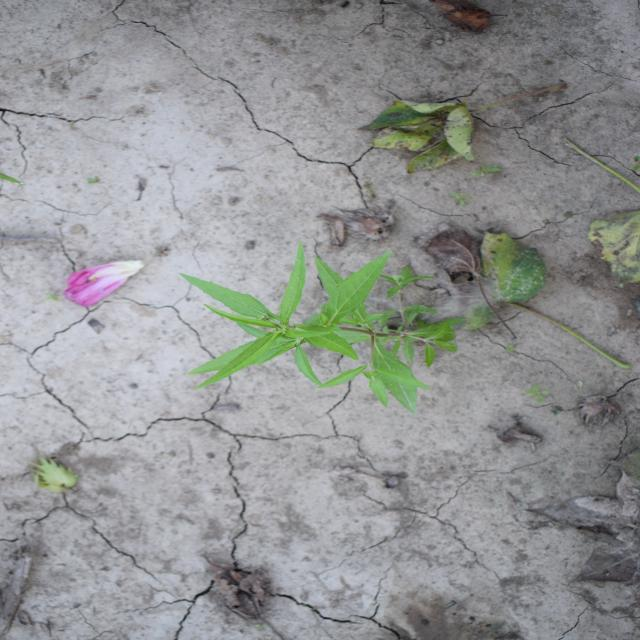Eclipta: (177, 240, 472, 414)
